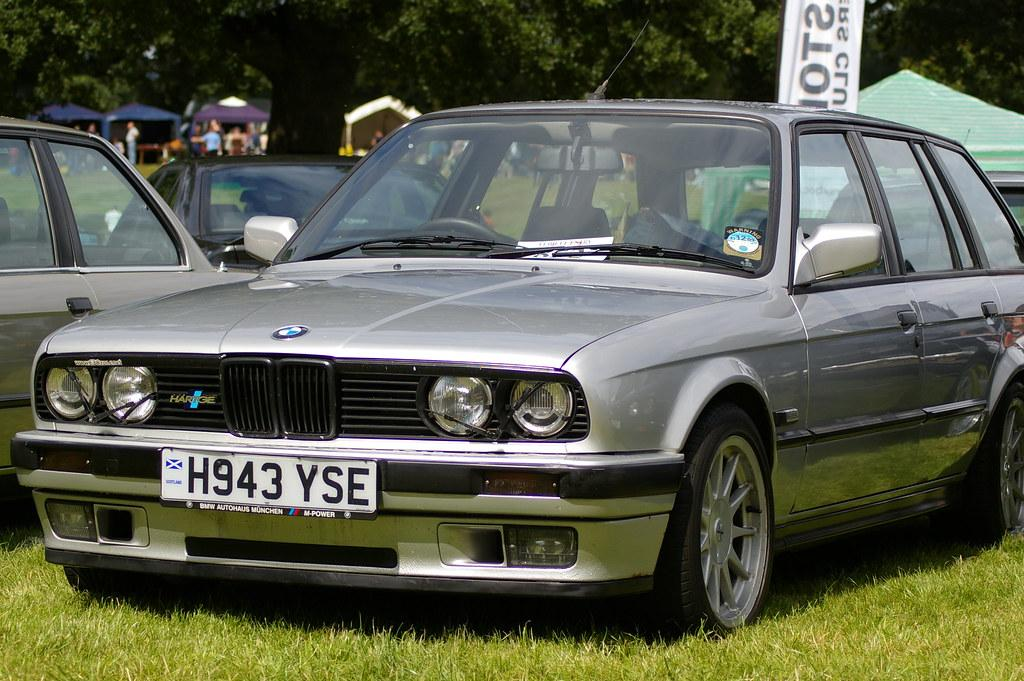car: (9, 93, 1024, 637), (105, 154, 498, 273)
